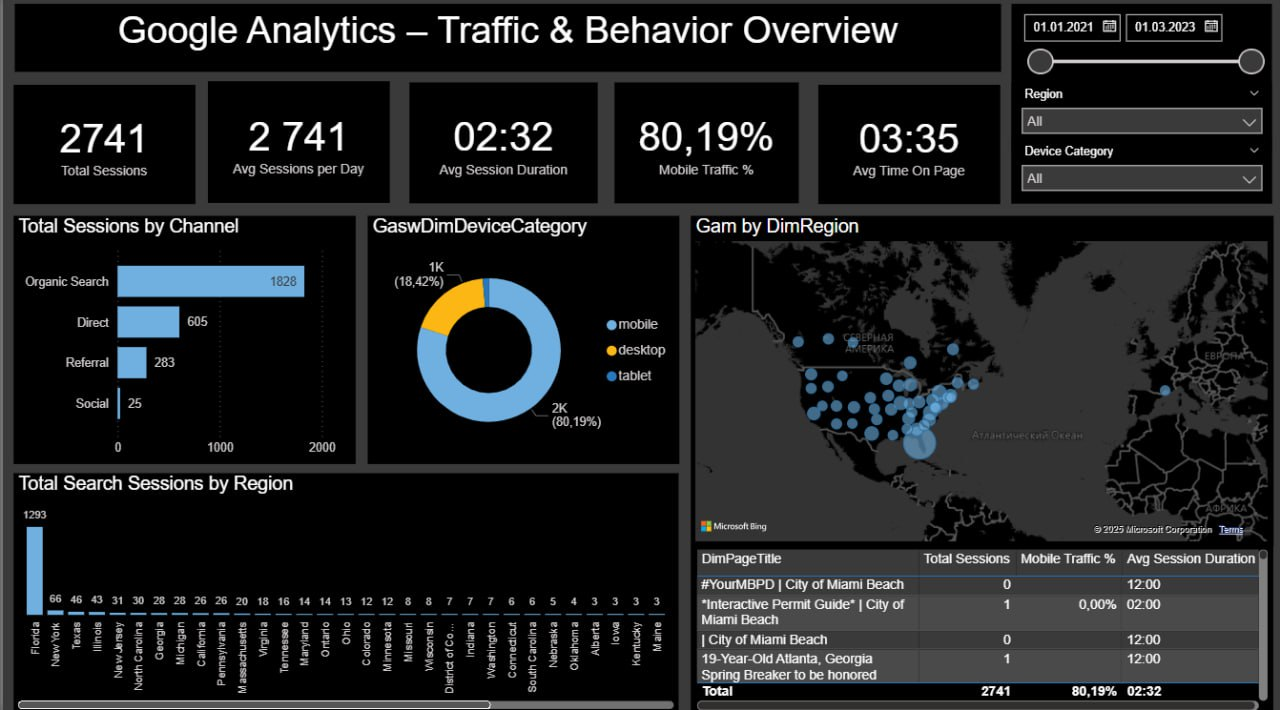

This screenshot's page, from the dashboard's own definition file:
{"tool":"powerbi","page":{"name":"Google Analytics","canvas":[1280,720],"ordinal":0},"visuals":[{"type":"textbox","box":[11.3,9.9,985,68],"z":0},{"type":"textbox","box":[1007.6,9.7,260.2,199.3],"z":1000},{"type":"slicer","fields":{"Values":["Region.DimRegion"]},"box":[1007.6,88.6,260.2,66.4],"z":2000},{"type":"slicer","fields":{"Values":["vwDates.FullDate"]},"box":[1007.6,9.7,260.2,77.5],"z":3000},{"type":"slicer","fields":{"Values":["Device.DimDeviceCategory"]},"box":[1007.6,145.3,260.2,63.7],"z":4000},{"type":"card","fields":{"Values":["_Measuares.Total Sessions"]},"box":[11.1,90,181.3,119],"z":5000},{"type":"card","fields":{"Values":["_Measuares.Avg Sessions per Day"]},"box":[204.8,87.2,181.3,121.8],"z":6000},{"type":"card","fields":{"Values":["vwGAMetrics.Total MetricSessions GAM"]},"box":[405.5,88.6,188.2,120.4],"z":7000},{"type":"card","fields":{"Values":["Fact_GA_Sessions.Mobile Traffic %"]},"box":[610.4,88.6,184.1,120.4],"z":8000},{"type":"card","fields":{"Values":["Fact_GA_Sessions.Avg Time On Page"]},"box":[813.8,90,181.3,119],"z":9000},{"type":"donutChart","title":"GaswDimDeviceCategory","fields":{"Category":["Device.DimDeviceCategory"],"Y":["_Measuares.Total Sessions"]},"box":[364,221.5,311.4,247.8],"z":12000},{"type":"map","title":"Gam by DimRegion","fields":{"Size":["_Measuares.Total Sessions"],"Category":["Region.DimRegion"]},"box":[686.5,221.5,581.3,329.4],"z":15000},{"type":"barChart","fields":{"Y":["_Measuares.Total Sessions"],"Category":["Channel.DimChannel"]},"box":[11.1,221.5,341.9,247.8],"z":18000},{"type":"clusteredColumnChart","fields":{"Y":["_Measuares.Total Search Sessions"],"Category":["Region.DimRegion"]},"box":[11.1,478.9,664.4,240.8],"z":25000},{"type":"tableEx","fields":{"Values":["Fact_GA_Sessions.DimPageTitle","_Measuares.Total Sessions","_Measuares.Mobile Traffic %","_Measuares.Avg Session Duration"]},"box":[686.5,549.5,581.3,170.2],"z":26000}]}

Visuals, with their boxes in screenshot pixels (x1, y1, x2, y2), scaled from the page's 1280x720 canvas onto the 1280x710 screenshot:
textbox: box=[11, 10, 996, 77]
textbox: box=[1008, 10, 1268, 206]
slicer - Region.DimRegion: box=[1008, 87, 1268, 153]
slicer - vwDates.FullDate: box=[1008, 10, 1268, 86]
slicer - Device.DimDeviceCategory: box=[1008, 143, 1268, 206]
card - _Measuares.Total Sessions: box=[11, 89, 192, 206]
card - _Measuares.Avg Sessions per Day: box=[205, 86, 386, 206]
card - vwGAMetrics.Total MetricSessions GAM: box=[406, 87, 594, 206]
card - Fact_GA_Sessions.Mobile Traffic %: box=[610, 87, 794, 206]
card - Fact_GA_Sessions.Avg Time On Page: box=[814, 89, 995, 206]
"GaswDimDeviceCategory" donutChart: box=[364, 218, 675, 463]
"Gam by DimRegion" map: box=[686, 218, 1268, 543]
barChart - _Measuares.Total Sessions x Channel.DimChannel: box=[11, 218, 353, 463]
clusteredColumnChart - _Measuares.Total Search Sessions x Region.DimRegion: box=[11, 472, 676, 709]
tableEx - Fact_GA_Sessions.DimPageTitle x _Measuares.Total Sessions: box=[686, 542, 1268, 709]
